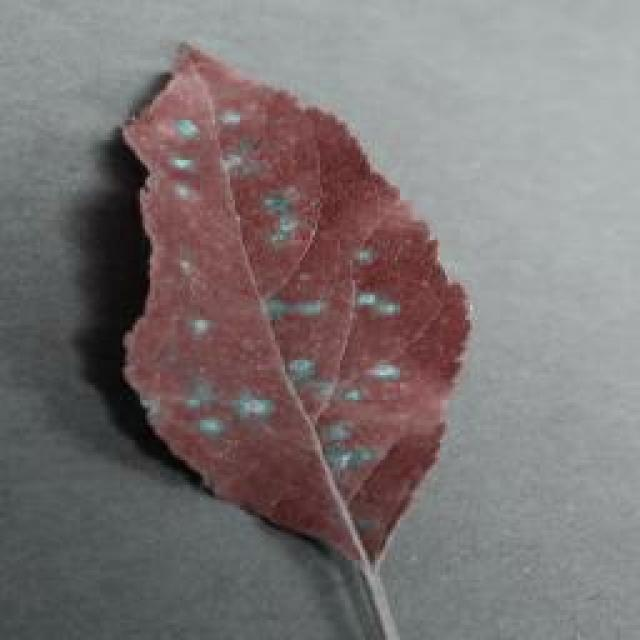apple rust disease: (115, 38, 473, 568)
